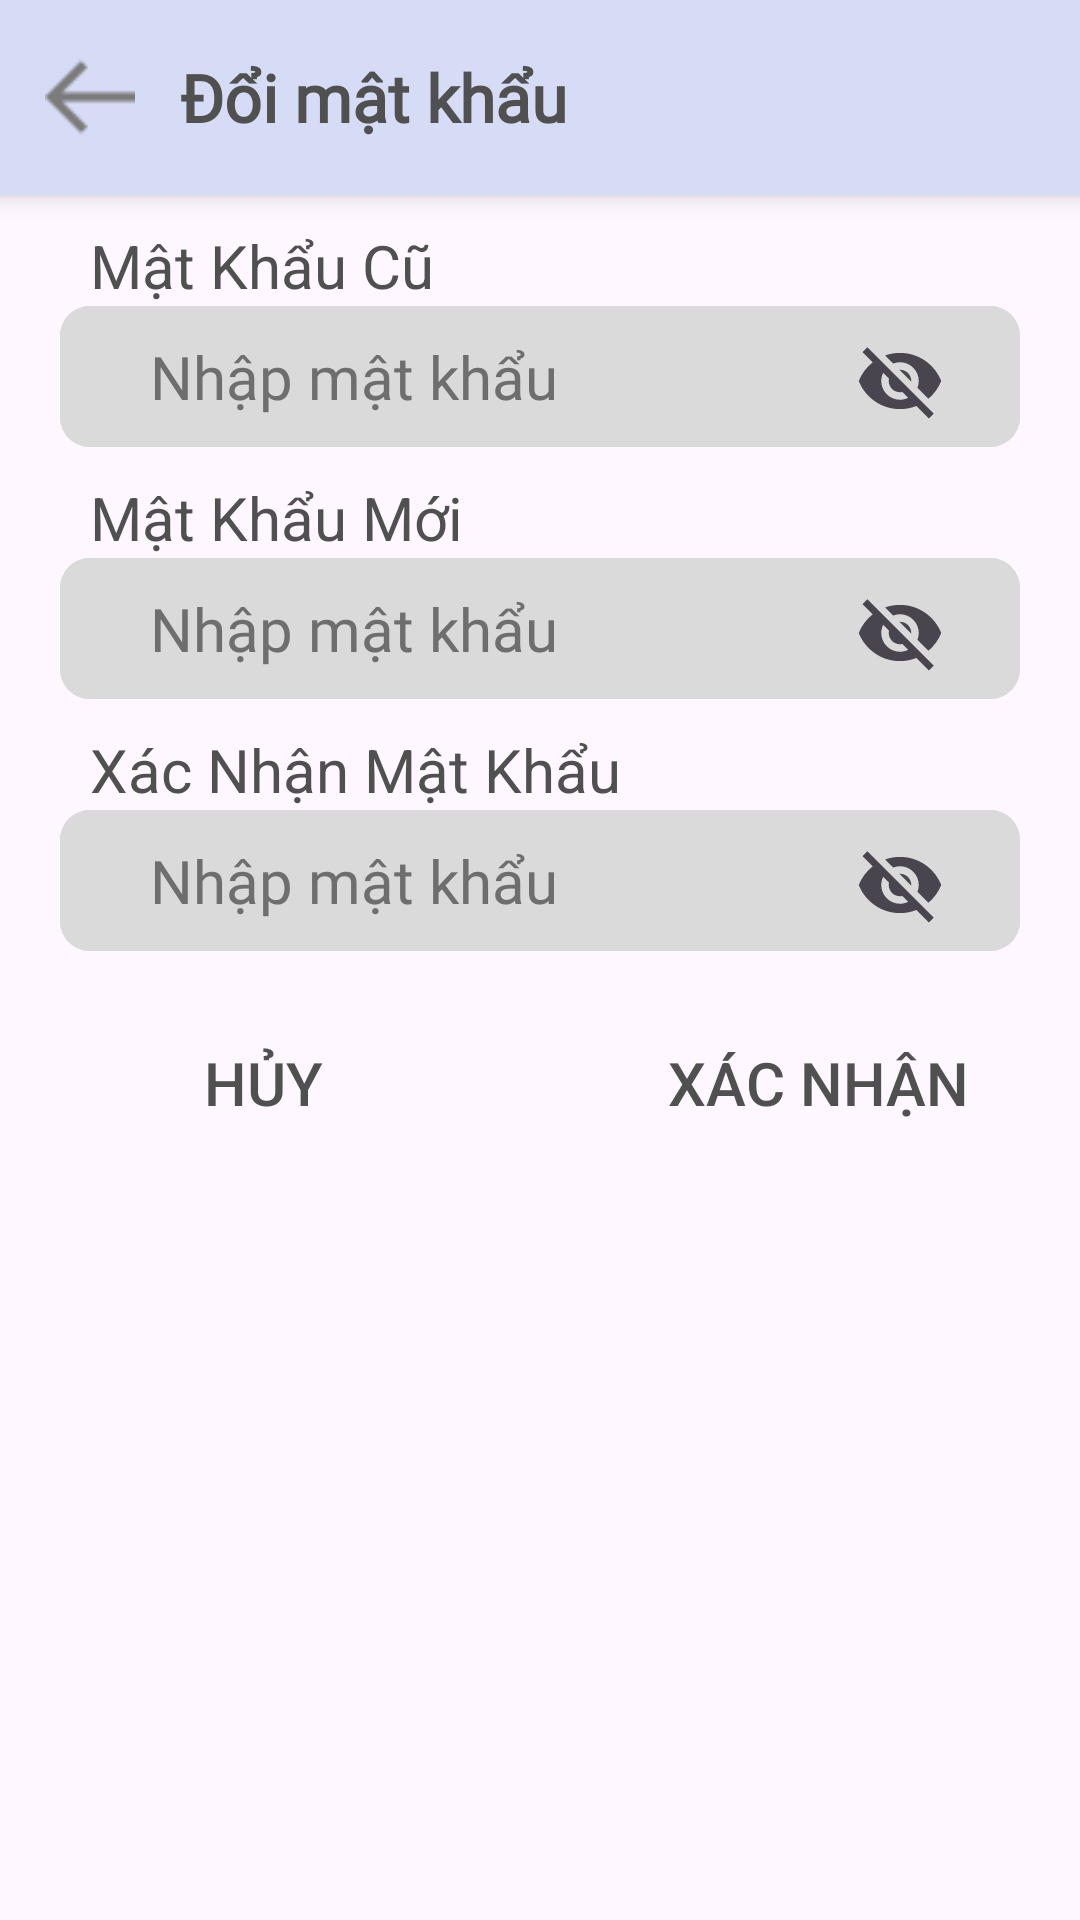

Icons on this 1080px x 1920px Android screen, each with the point to tap as (x=x, y=y):
leftarrow: (x=90, y=97)
visibility off: (x=900, y=383), (x=900, y=635), (x=900, y=887)
